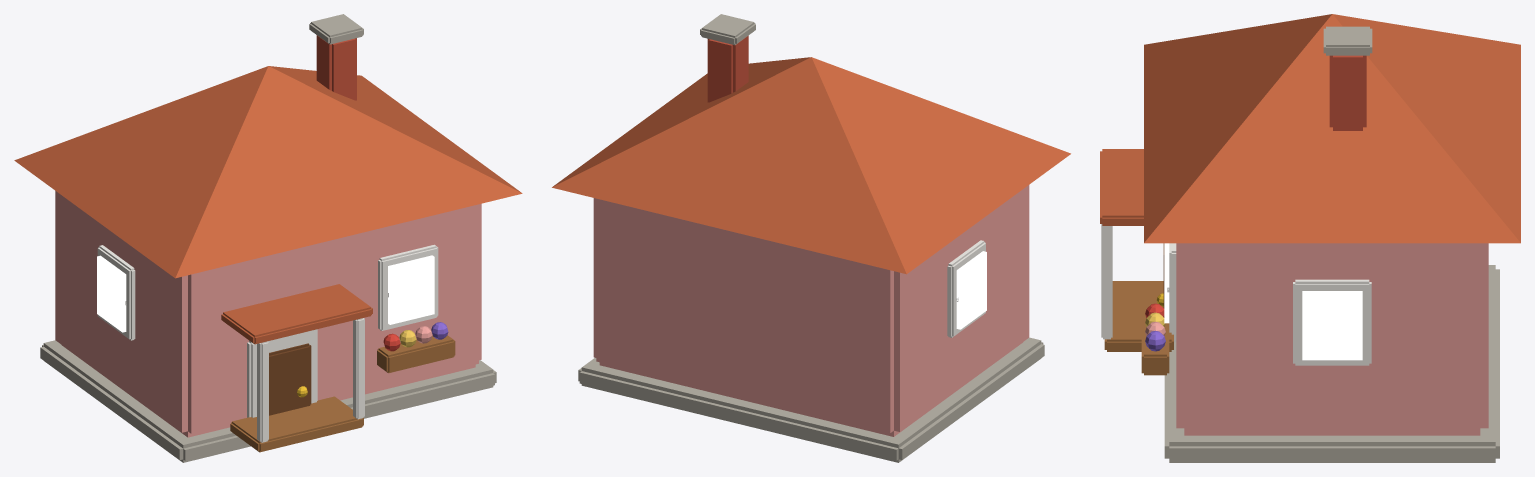
The model's file is villa.glb.
3 renders of one model, left to right at view 1: azimuth 30°, elevation 25°; view 2: azimuth 150°, elevation 25°; view 3: azimuth 270°, elevation 25°, orthographic. The views are drawn at different scales.
Parts seen in each view (by area): view 1: villa; view 2: villa; view 3: villa.
Part boxes in pixels (x1,y1,x2,y2): villa: (14,14,522,462); villa: (552,14,1070,462); villa: (1100,14,1520,462).
Bounding box in the file's own units: 2.03 × 1.82 × 1.82.
